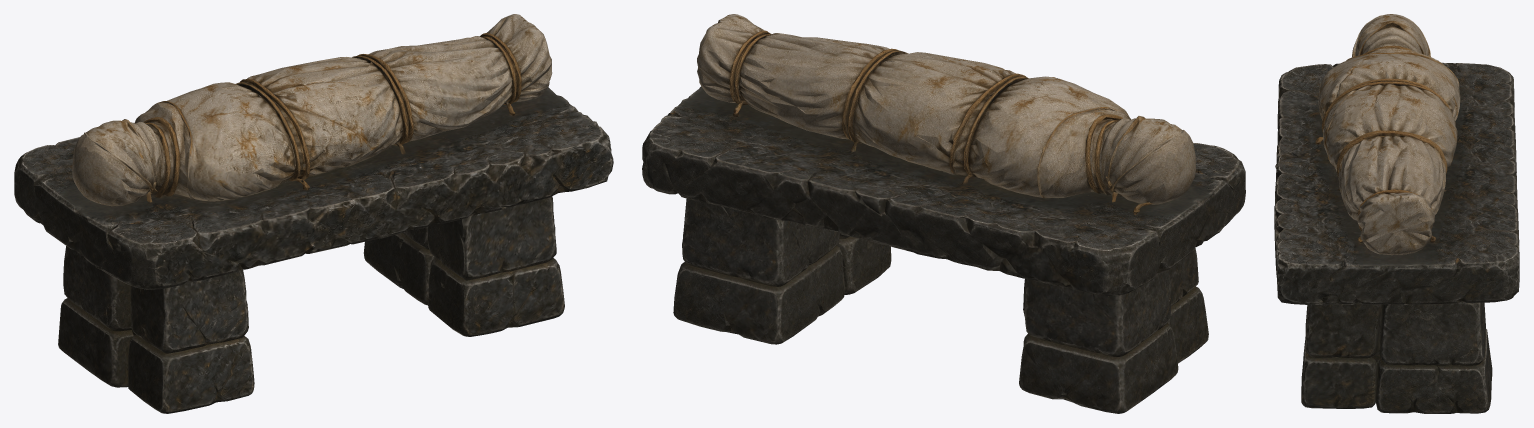
Rendered from morgue_slab.glb.
3 renders of one model, left to right at view 1: azimuth 30°, elevation 25°; view 2: azimuth 150°, elevation 25°; view 3: azimuth 270°, elevation 25°, orthographic. The views are drawn at different scales.
Visible parts, largest first — view 1: Mesh_0; view 2: Mesh_0; view 3: Mesh_0.
Part boxes in pixels (left/top/right/bottom): Mesh_0: left=14, top=14, right=613, bottom=413; Mesh_0: left=642, top=14, right=1245, bottom=413; Mesh_0: left=1274, top=14, right=1519, bottom=413.
Bounding box in the file's own units: 1.9 × 0.9751 × 0.9596.
1 material, 1 textured.
